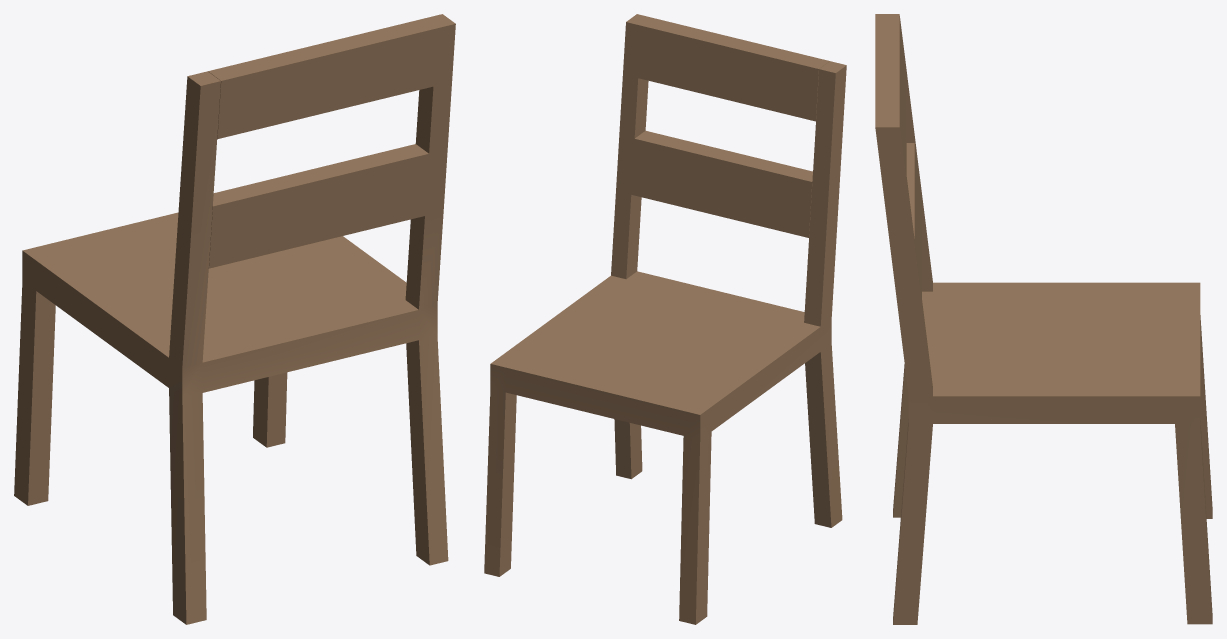
The model's file is Chair.fbx.
3 views of the same model, side by side, from view 1: azimuth 30°, elevation 25°; view 2: azimuth 150°, elevation 25°; view 3: azimuth 270°, elevation 25° (orthographic). The views are drawn at different scales.
Parts seen in each view (by area): view 1: pCube1; view 2: pCube1; view 3: pCube1.
Boxes of the visible parts, box(x1,y1,x2,y2) form: pCube1: box(14, 14, 455, 624); pCube1: box(484, 14, 846, 624); pCube1: box(875, 14, 1212, 624).
Bounding box in the file's own units: 4.49 × 8.92 × 5.49.
